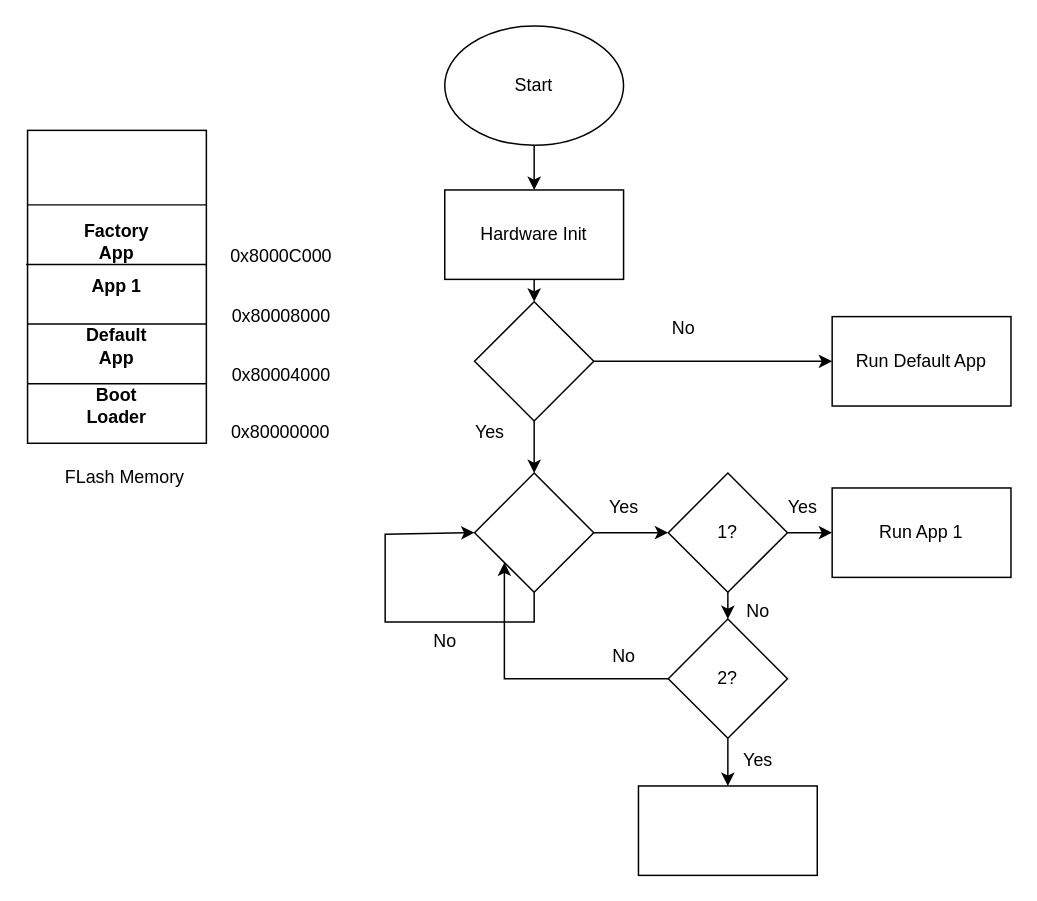
Some shapes in this 1037 by 901 pixel diagram are drawn without their labels. The centre of each missing label's shape, as x and y in pixels:
"BTN Pressed?" belongs at point 533,360.
"Mesage?" belongs at point 533,532.
"Run Factory App" belongs at point 727,829.
